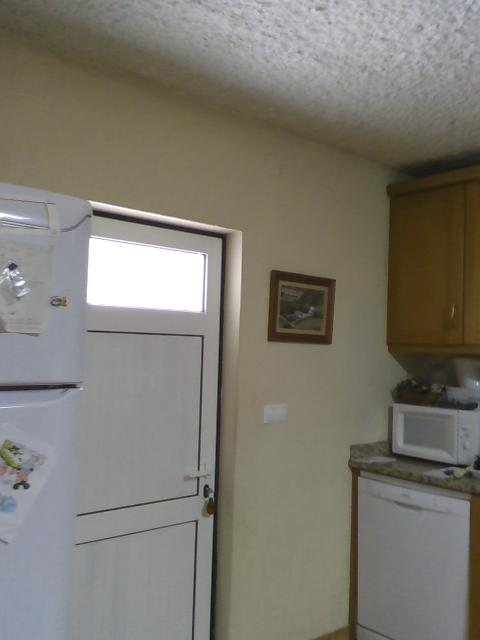closed_door: (60, 195, 240, 638)
